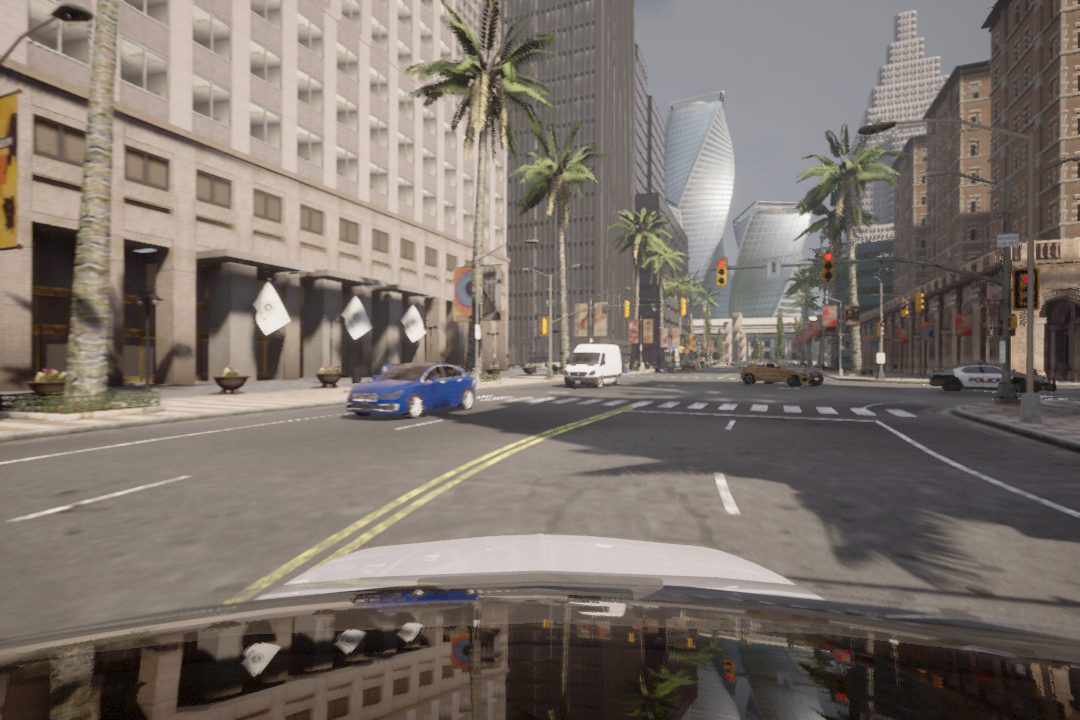TrafficLight: (466, 391, 918, 424), (1017, 271, 1040, 311), (820, 247, 837, 284), (715, 259, 727, 288)
